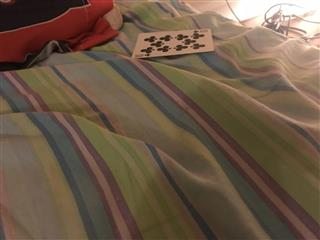TenOfClubs: (130, 27, 214, 59)
